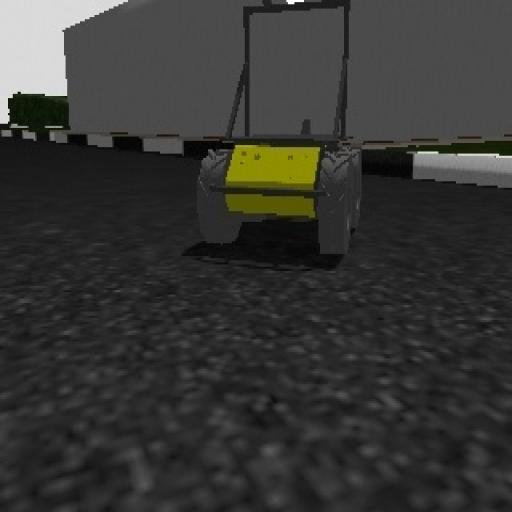huskya200: (194, 0, 384, 278)
